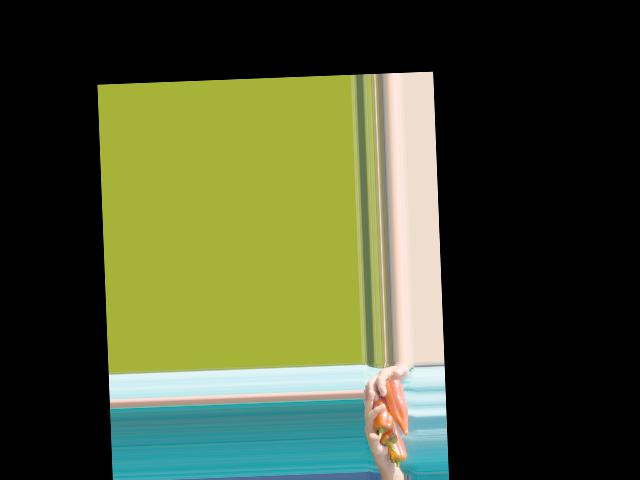bell_pepper: (385, 430, 407, 467)
